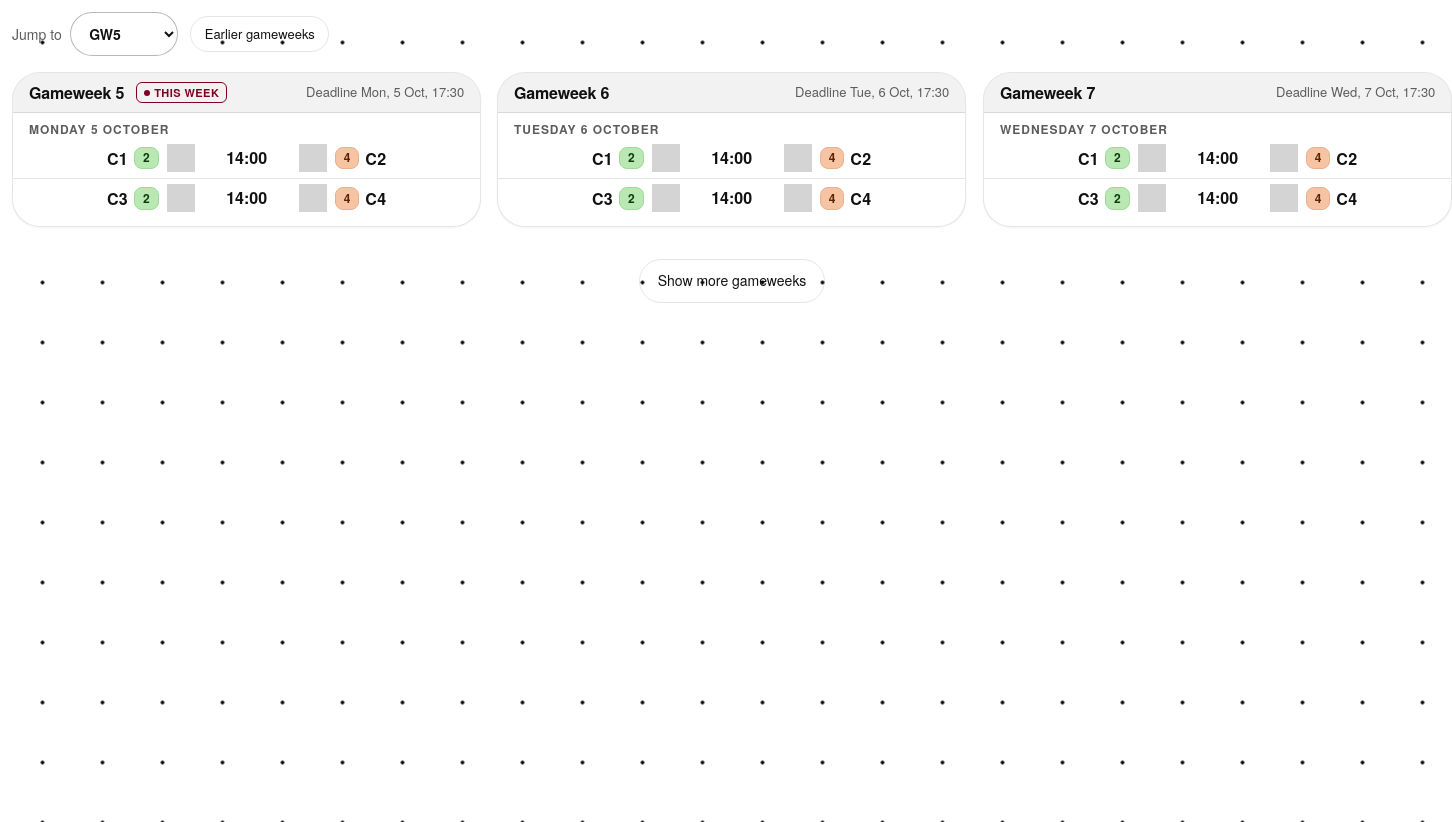
Scenario: FixtureFeed › brings in earlier gameweeks above, and then stops offering them
Click the button "Earlier gameweeks" at x=260, y=34, box [190,16,329,52]
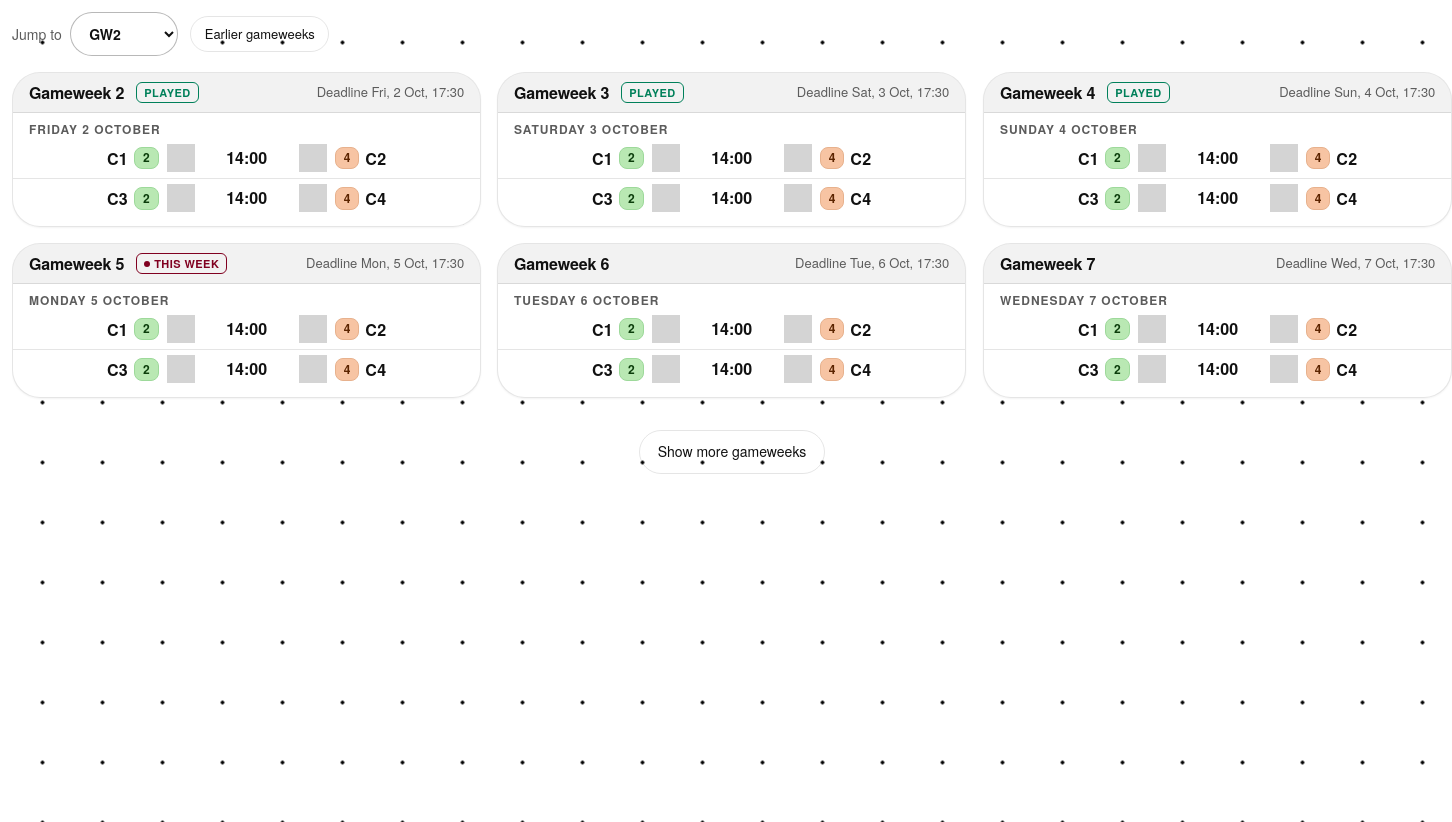
Result: the heading "Gameweek 2" is shown at [29,81,124,104]
Click the button "Earlier gameweeks" at x=260, y=34, box [190,16,329,52]
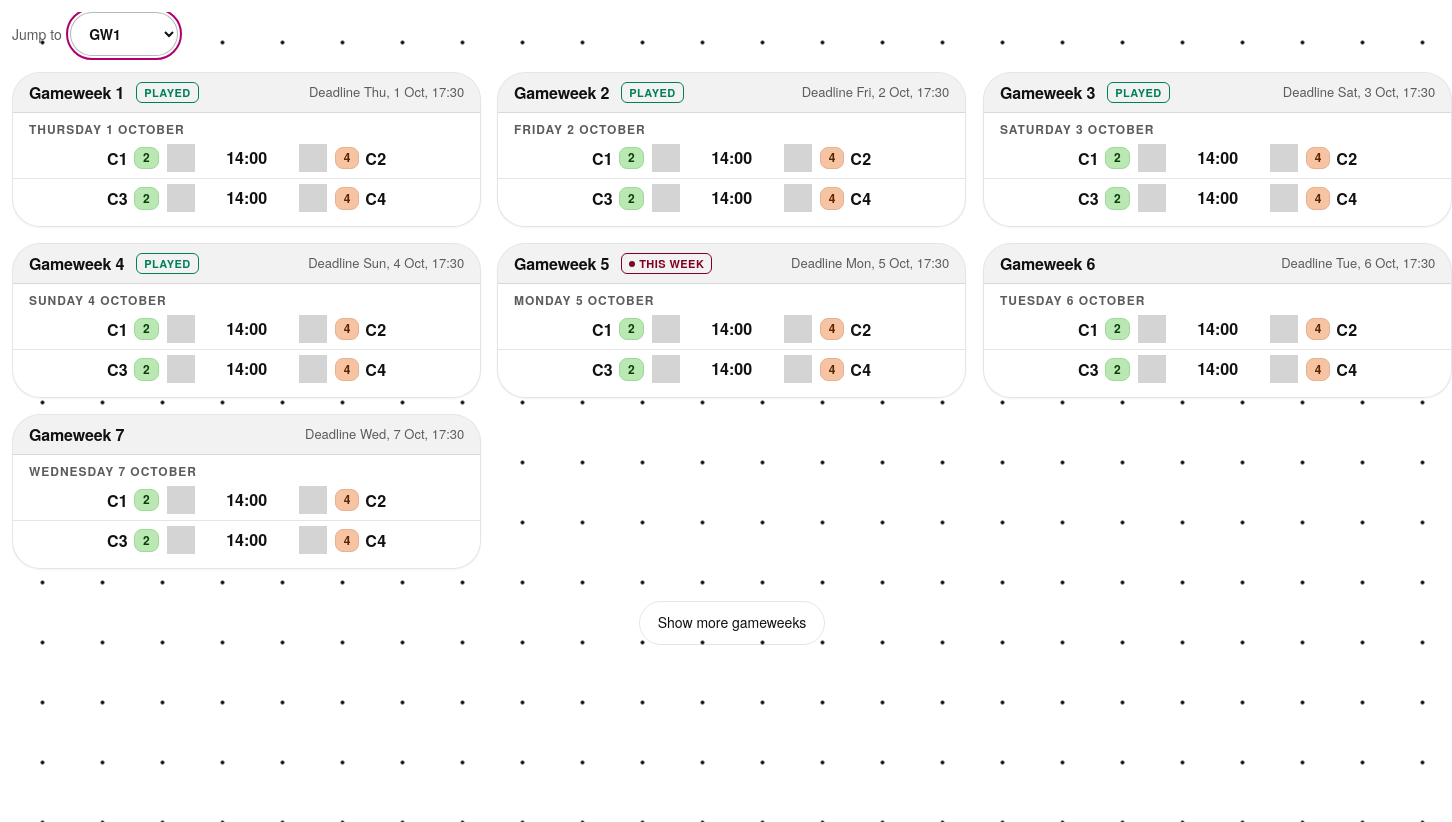
Result: the heading "Gameweek 1" is shown at [29,81,124,104]
Result: the button "Earlier gameweeks" is gone
